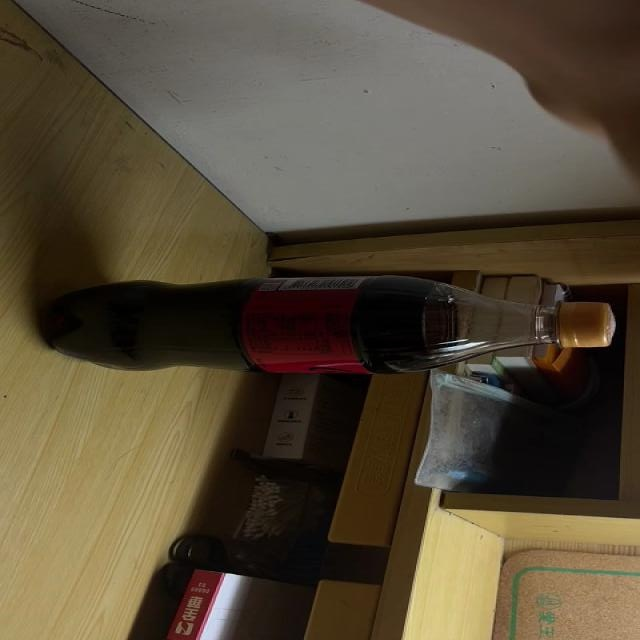Coca-Cola: (48, 275, 617, 376)
